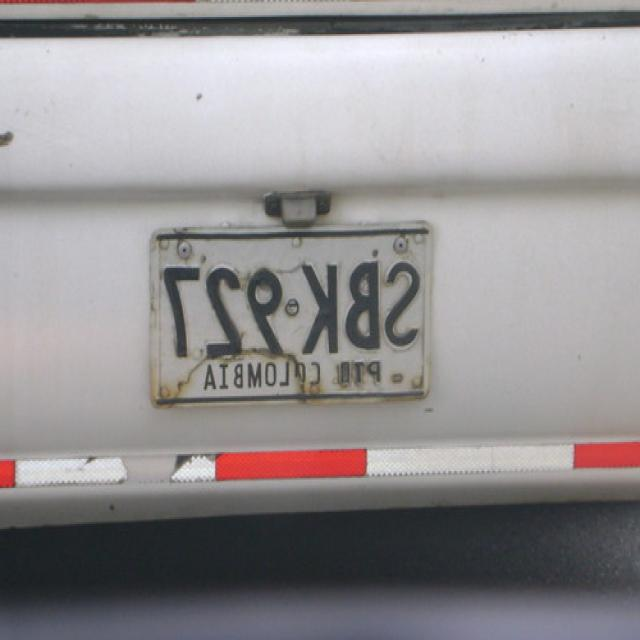placas: (158, 253, 422, 364)
